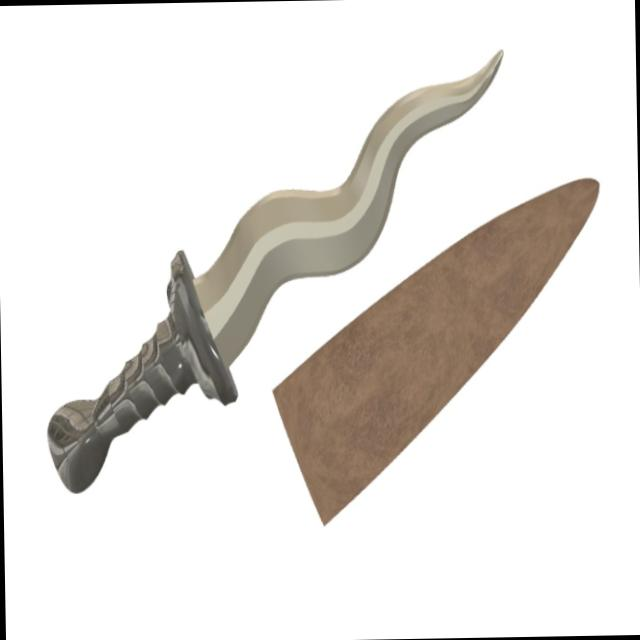Gun: (24, 48, 546, 522)
